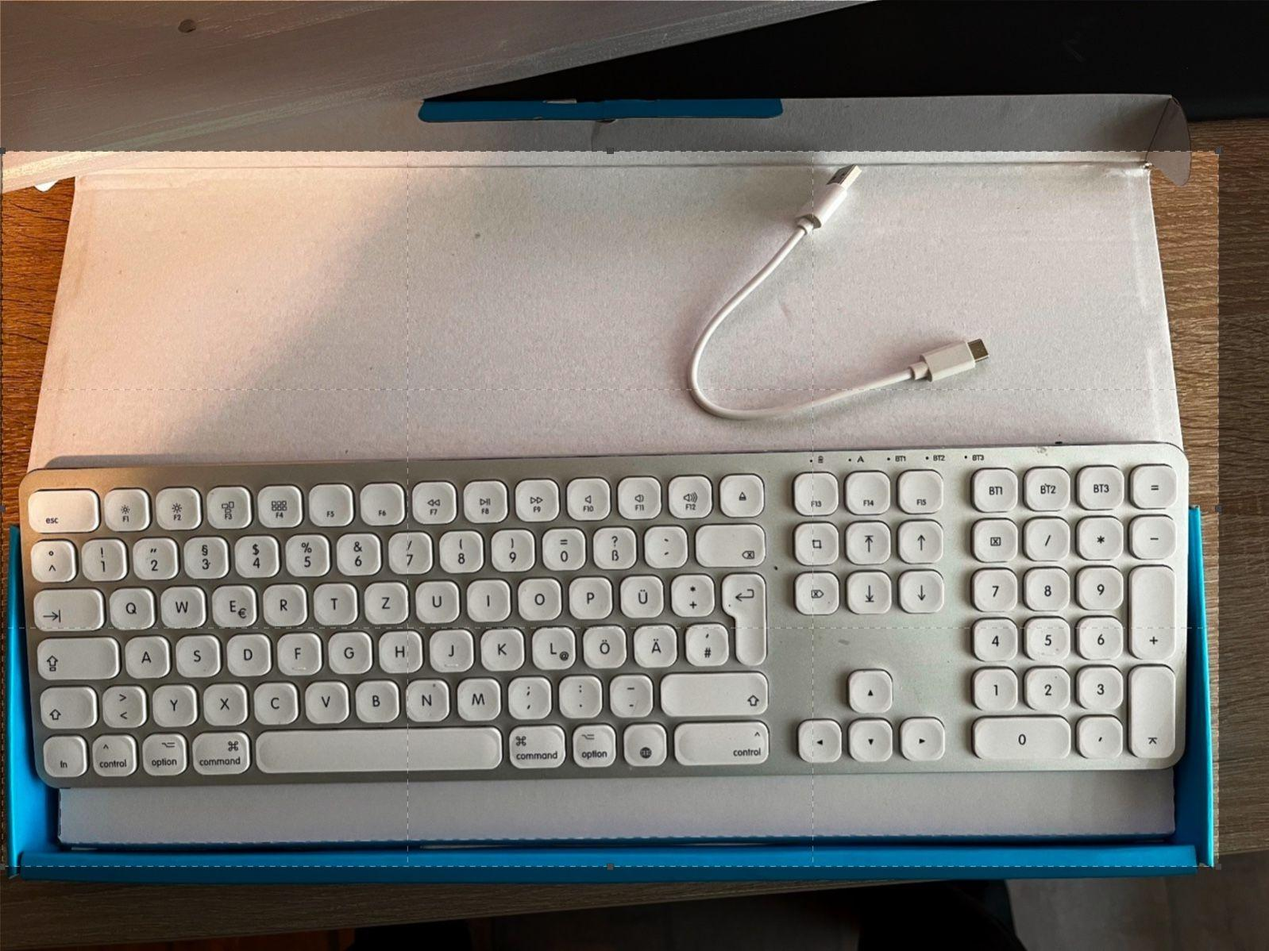0: (540, 525, 585, 568)
1: (80, 536, 126, 579)
2: (131, 535, 176, 577)
3: (182, 533, 227, 576)
4: (233, 533, 278, 575)
5: (283, 532, 329, 574)
6: (334, 530, 380, 573)
7: (387, 529, 432, 572)
8: (438, 528, 483, 571)
9: (488, 526, 534, 569)
a: (123, 633, 168, 676)
accent: (642, 522, 686, 565)
ae: (632, 621, 677, 665)
alt-left: (141, 730, 187, 776)
altgr-right: (569, 721, 615, 767)
b: (353, 677, 399, 720)
c: (252, 679, 297, 722)
caret: (29, 537, 74, 579)
comma: (505, 674, 550, 717)
d: (225, 630, 270, 675)
del: (693, 521, 766, 564)
e: (210, 582, 256, 625)
enter: (718, 568, 766, 664)
f: (276, 630, 320, 673)
g: (326, 629, 371, 672)
h: (376, 627, 422, 671)
hash: (683, 621, 727, 664)
i: (465, 576, 510, 619)
j: (427, 626, 473, 670)
k: (478, 625, 523, 669)
keyboard: (15, 443, 1198, 799)
l: (530, 623, 575, 668)
less: (101, 683, 145, 726)
m: (454, 675, 500, 718)
minus: (607, 672, 651, 715)
n: (403, 676, 449, 720)
o: (515, 576, 561, 618)
oe: (581, 622, 625, 666)
p: (567, 574, 611, 617)
plus: (669, 572, 712, 614)
point: (556, 673, 601, 716)
q: (107, 584, 154, 627)
r: (261, 581, 306, 623)
s: (174, 632, 219, 676)
shift-left: (36, 683, 96, 727)
shift-lock: (32, 633, 118, 678)
shift-right: (658, 668, 767, 714)
space: (253, 724, 501, 772)
ss: (592, 524, 635, 566)
strg-left: (90, 731, 137, 776)
strg-right: (671, 718, 773, 764)
t: (311, 579, 357, 623)
tab: (29, 585, 102, 629)
u: (413, 577, 458, 621)
ue: (619, 572, 662, 615)
v: (303, 678, 349, 722)
w: (158, 583, 205, 626)
x: (202, 680, 247, 723)
y: (151, 682, 196, 725)
z: (362, 579, 407, 622)
